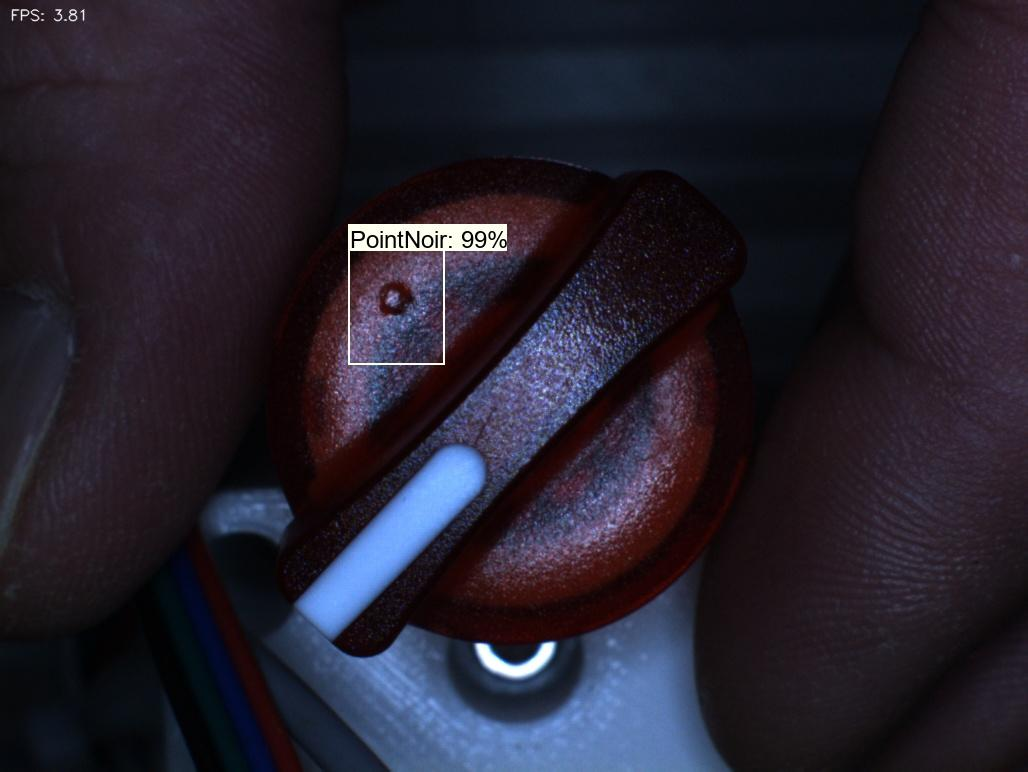Choc: (338, 258, 447, 359)
